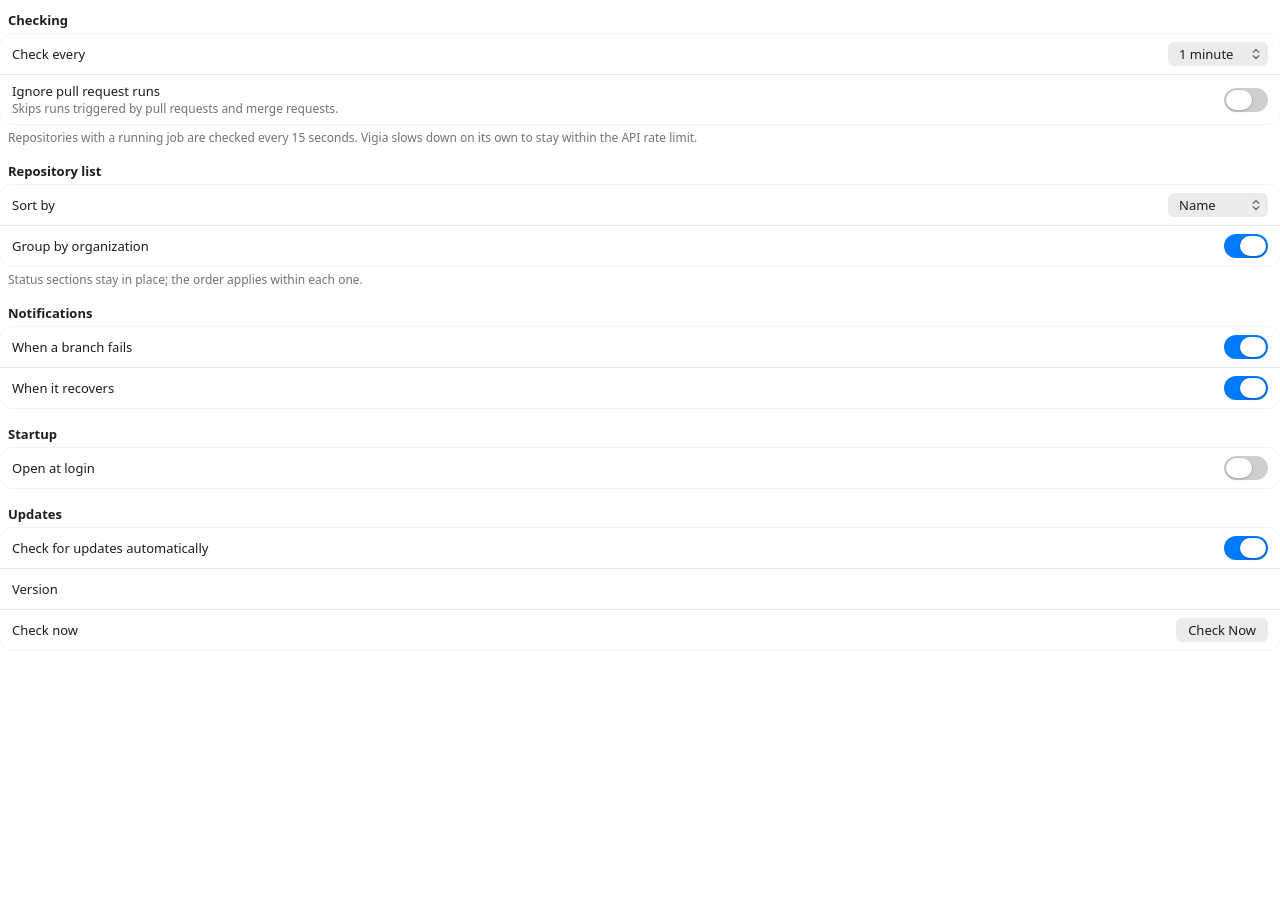
Test: general settings › Check Now › offers the install and follows its progress
This screenshot has width=1280, height=912.
Step 1. Click the button "Check Now" → (1222, 630), box [1176,618,1268,642]
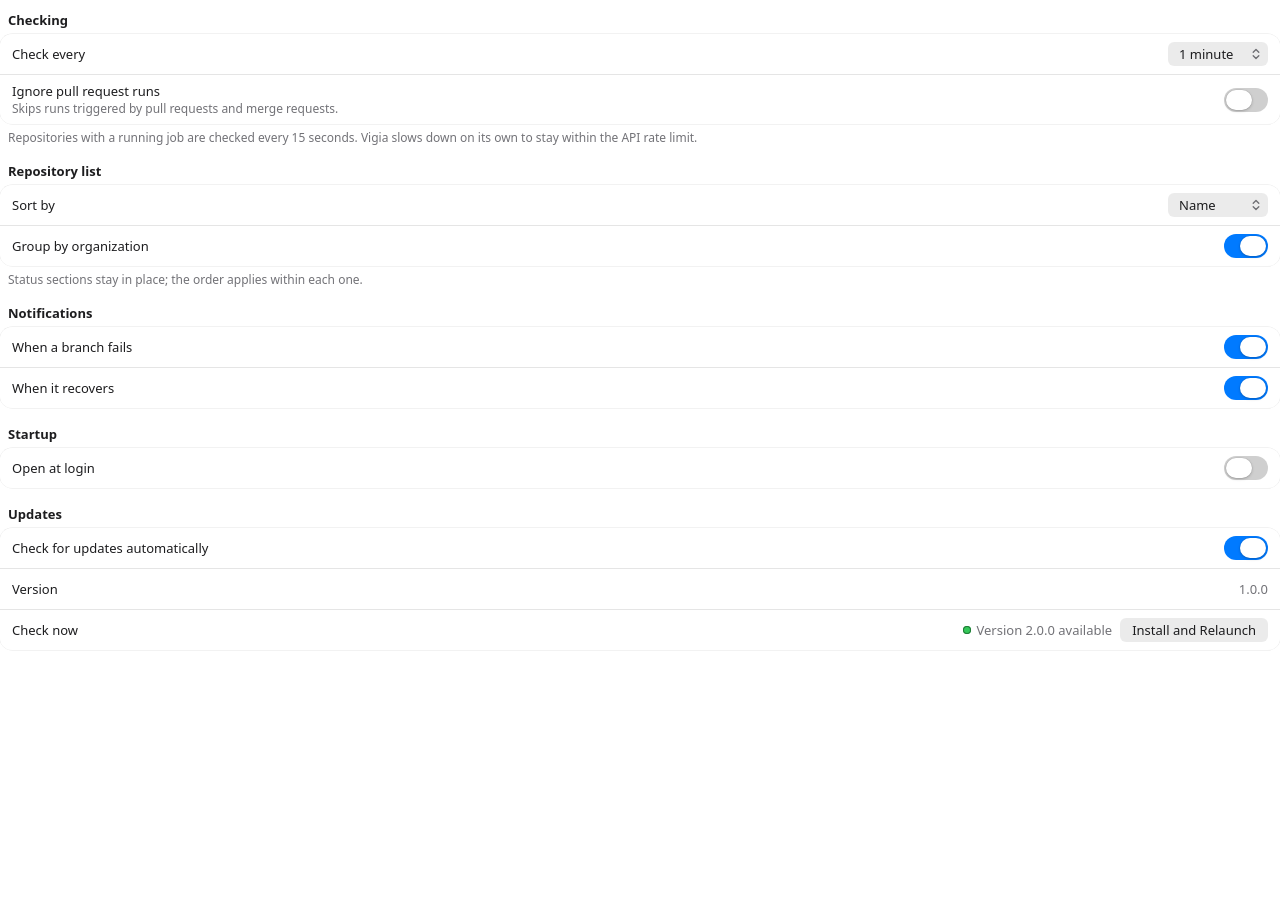
Check: the text "Version 2.0.0 available" is shown, box [962,622,1112,638]
Step 2. Click the button "Install and Relaunch" → (1194, 630), box [1120,618,1268,642]
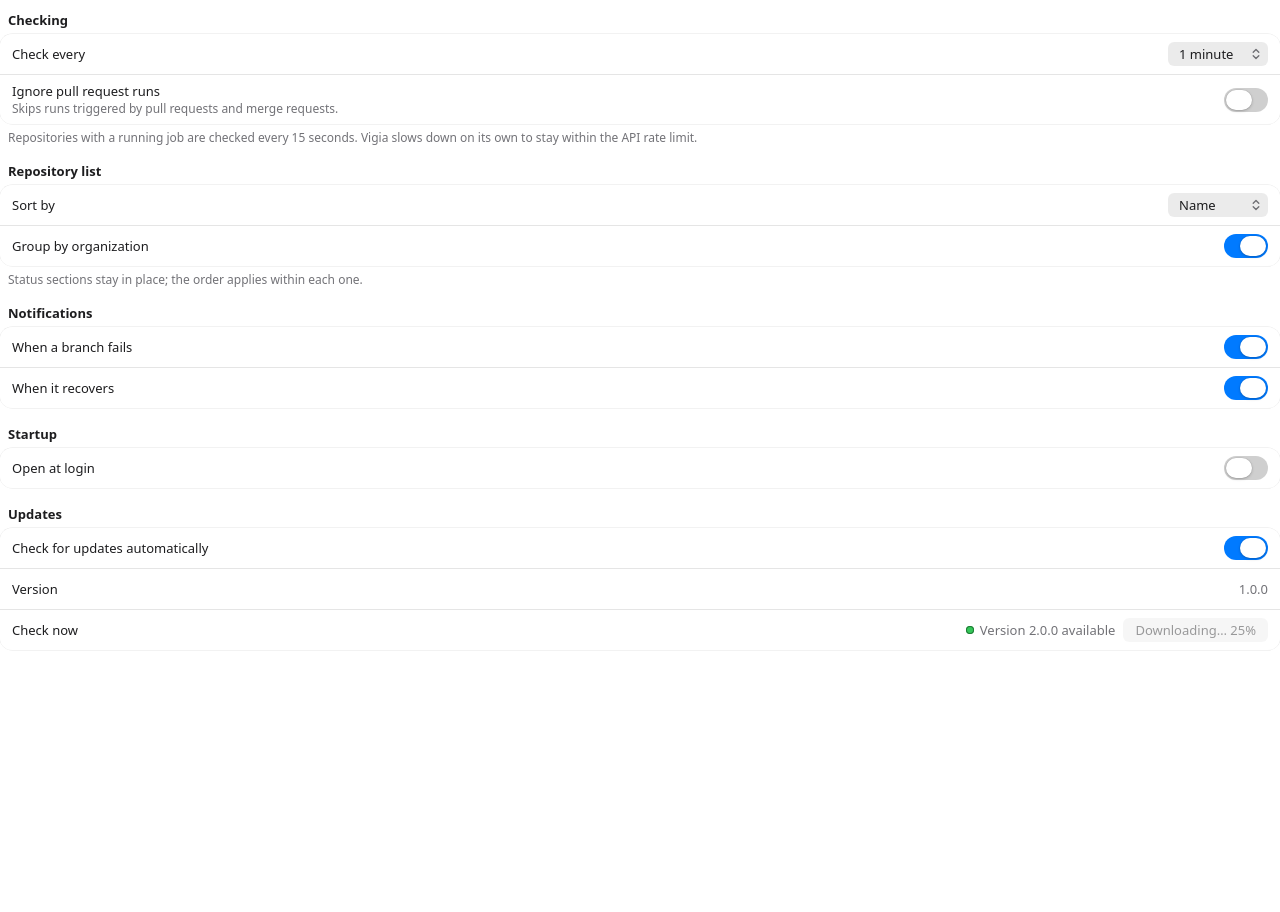
Check: the button "Downloading… 25%" is shown, box [1123,618,1268,642]
